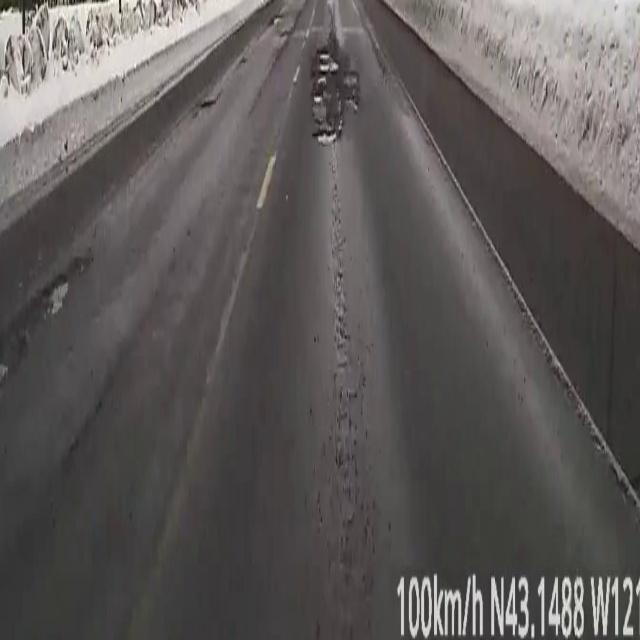pothole: (311, 9, 359, 144), (0, 356, 22, 422), (82, 226, 108, 268), (54, 266, 74, 296)
